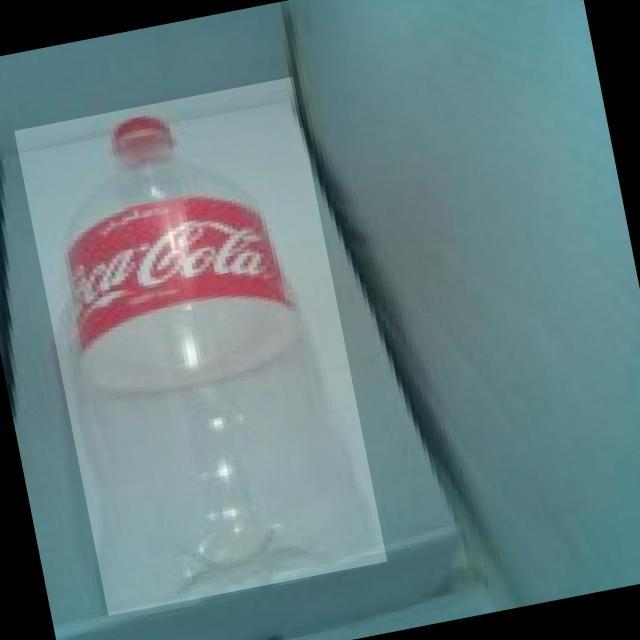good: (15, 77, 388, 616)
